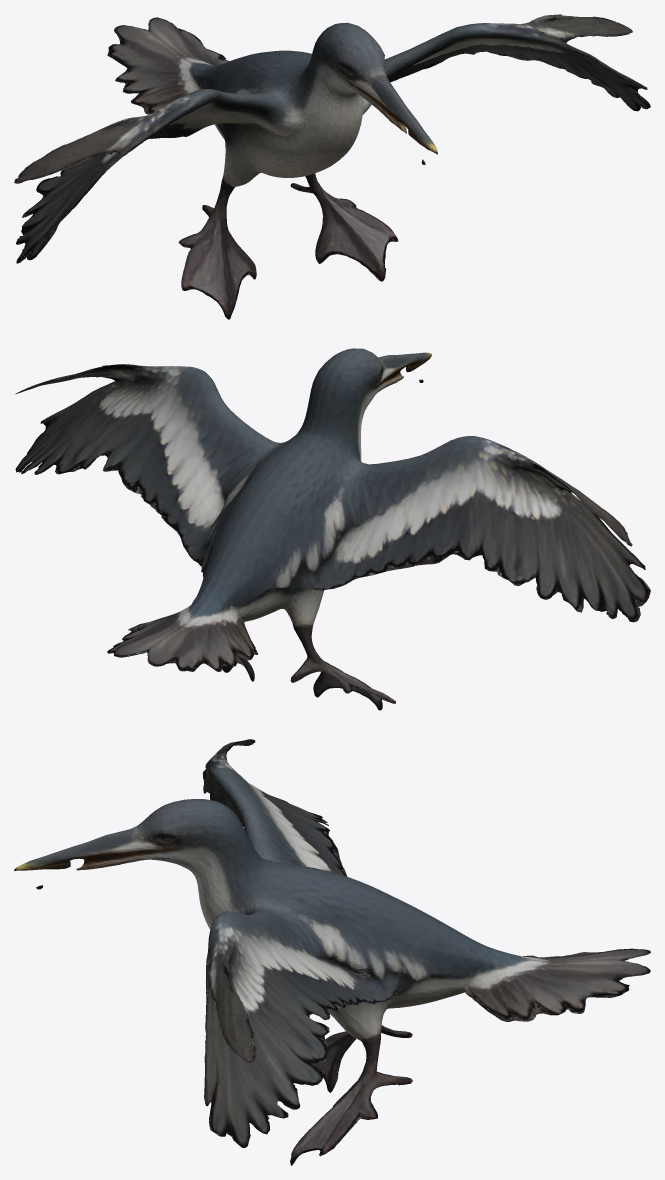
Rendered from model-ve2341adf3f98.glb.
3 renders of one model, top to bottom at view 1: azimuth 30°, elevation 25°; view 2: azimuth 150°, elevation 25°; view 3: azimuth 270°, elevation 25°, orthographic. The views are drawn at different scales.
Visible parts, largest first — view 1: world; view 2: world; view 3: world.
Boxes of the visible parts, x1,y1,x2,y2 form: world: [14, 14, 650, 319]; world: [15, 348, 650, 710]; world: [14, 739, 650, 1165].
Bounding box in the file's own units: 0.9939 × 0.4661 × 0.8287.
1 material, 1 textured.
